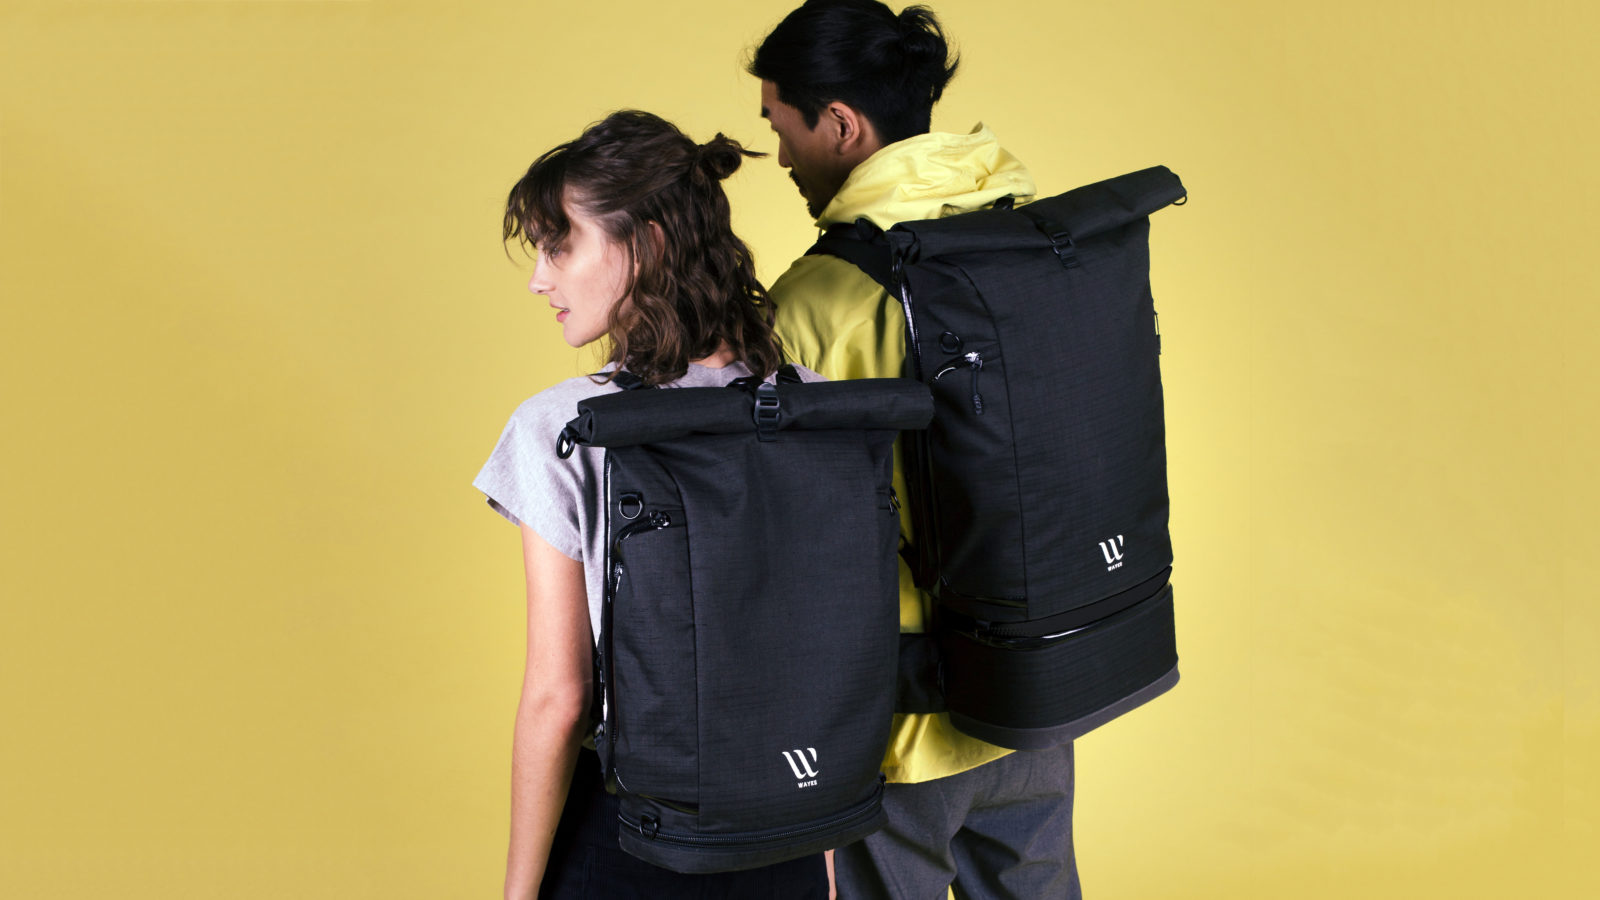backpack: (886, 166, 1195, 755), (569, 375, 924, 873)
